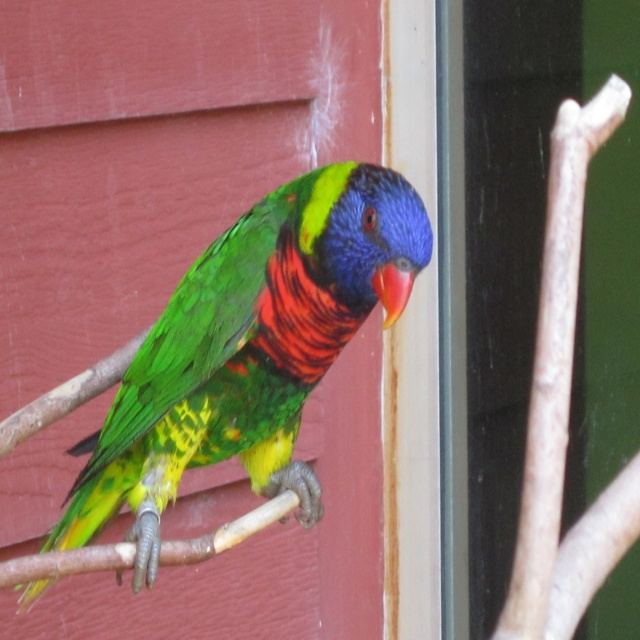Parrot: (14, 161, 434, 614)
